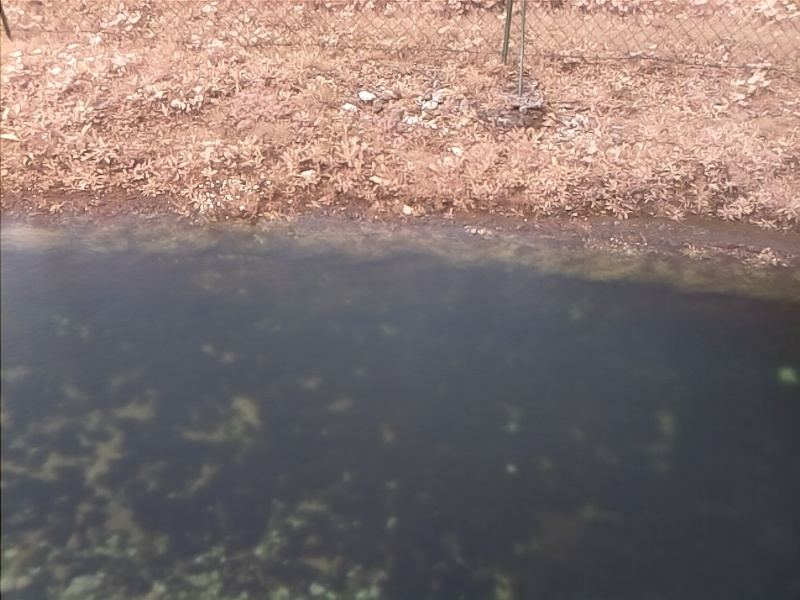Water: (1, 215, 797, 600)
